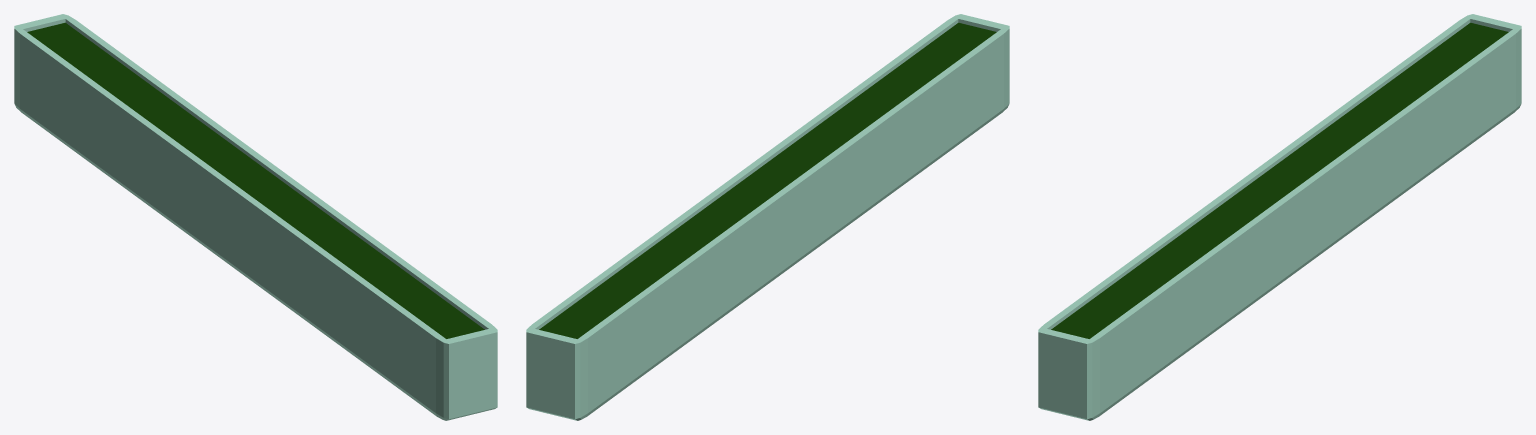
Rendered from Square_flowerbed.fbx.
3 views of the same model, side by side, from view 1: azimuth 30°, elevation 25°; view 2: azimuth 150°, elevation 25°; view 3: azimuth 330°, elevation 25° (orthographic).
Visible parts, largest first — view 1: Square_flowerbed; view 2: Square_flowerbed; view 3: Square_flowerbed.
Boxes of the visible parts, <box> form: Square_flowerbed: <box>14,14,497,420</box>; Square_flowerbed: <box>526,14,1009,420</box>; Square_flowerbed: <box>1038,14,1521,420</box>.
Bounding box in the file's own units: 9.25 × 12.7 × 124.
